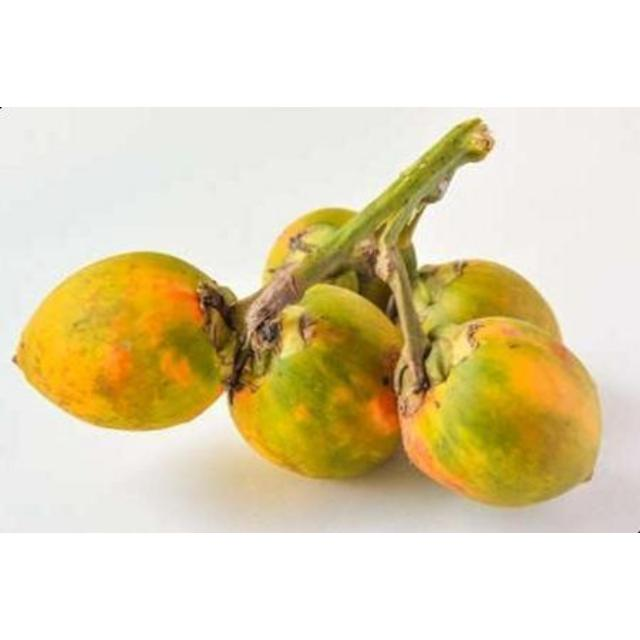good: (400, 316, 600, 508), (13, 252, 231, 428), (229, 282, 405, 478), (400, 260, 560, 344), (264, 210, 388, 314)
